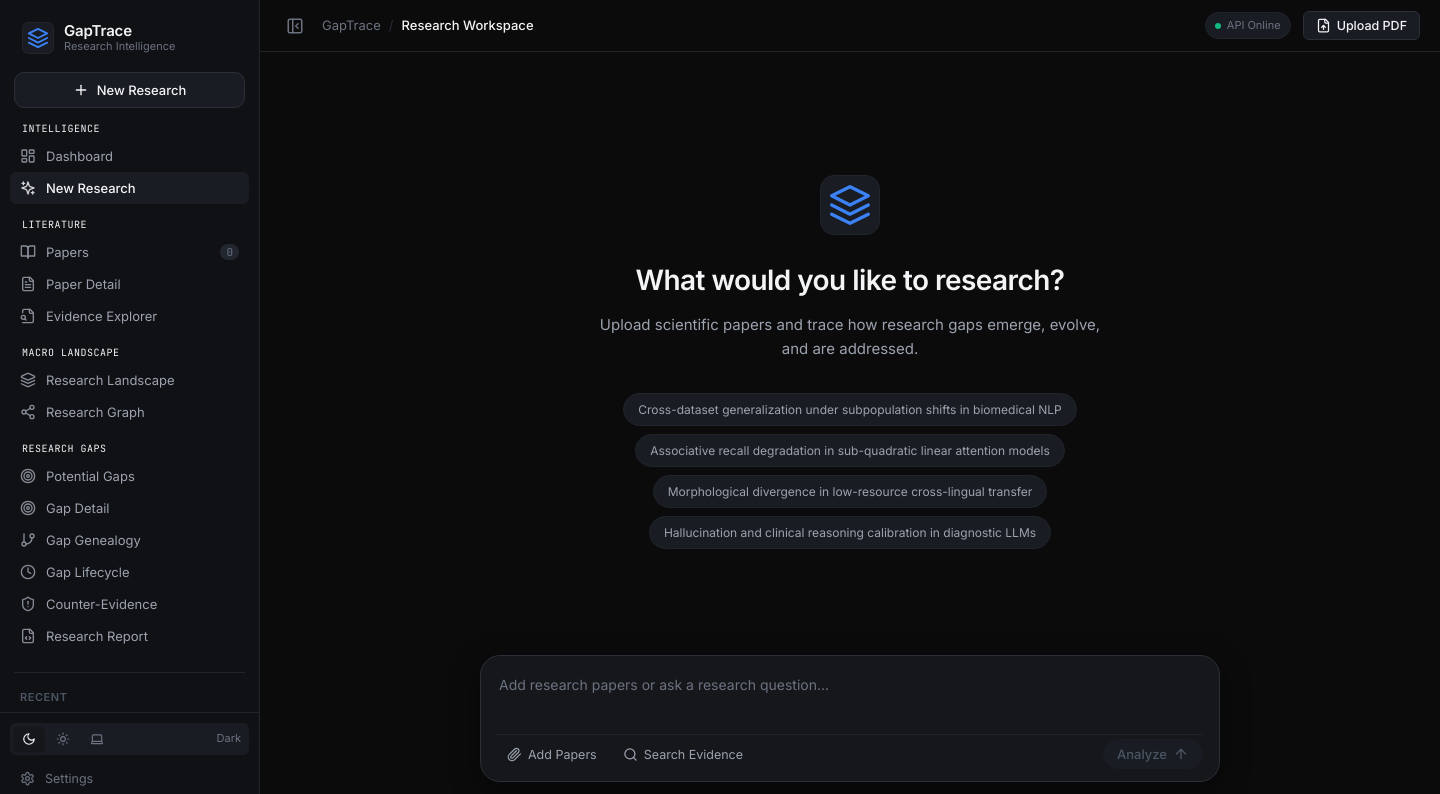
it: GapTrace: Lead Research-AI Interface › switches tabs in research session view to inspect timeline
# Open session
Click the button "Cross-dataset generalization" at x=850, y=409, box [623,392,1077,426]
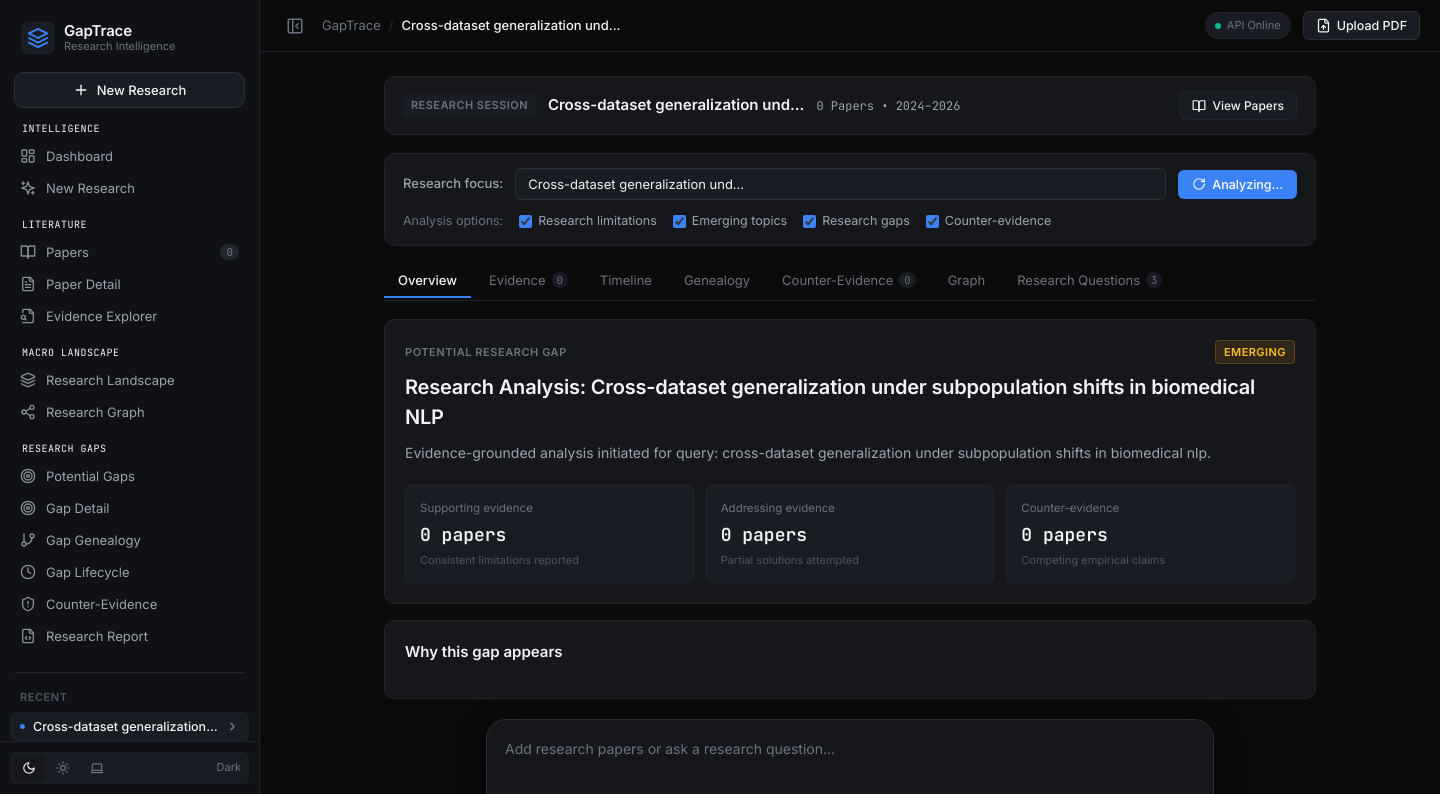
Expected: the text "Research Session" is shown, [403,94,536,117]
# Click Timeline tab
Click the button "Timeline" at x=626, y=281, box [586,264,666,298]
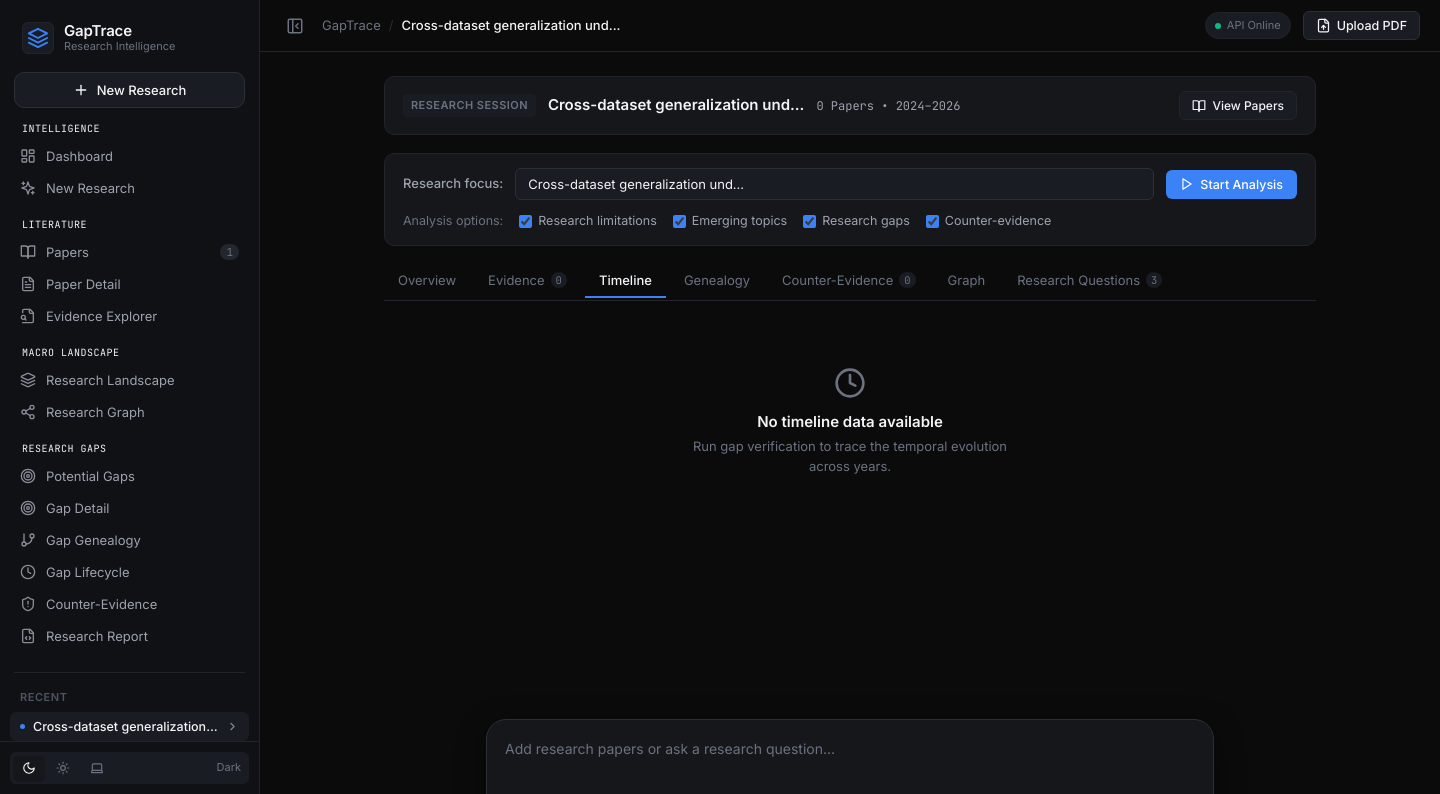
Expected: the text "No timeline data available" is shown, [757,411,943,433]
